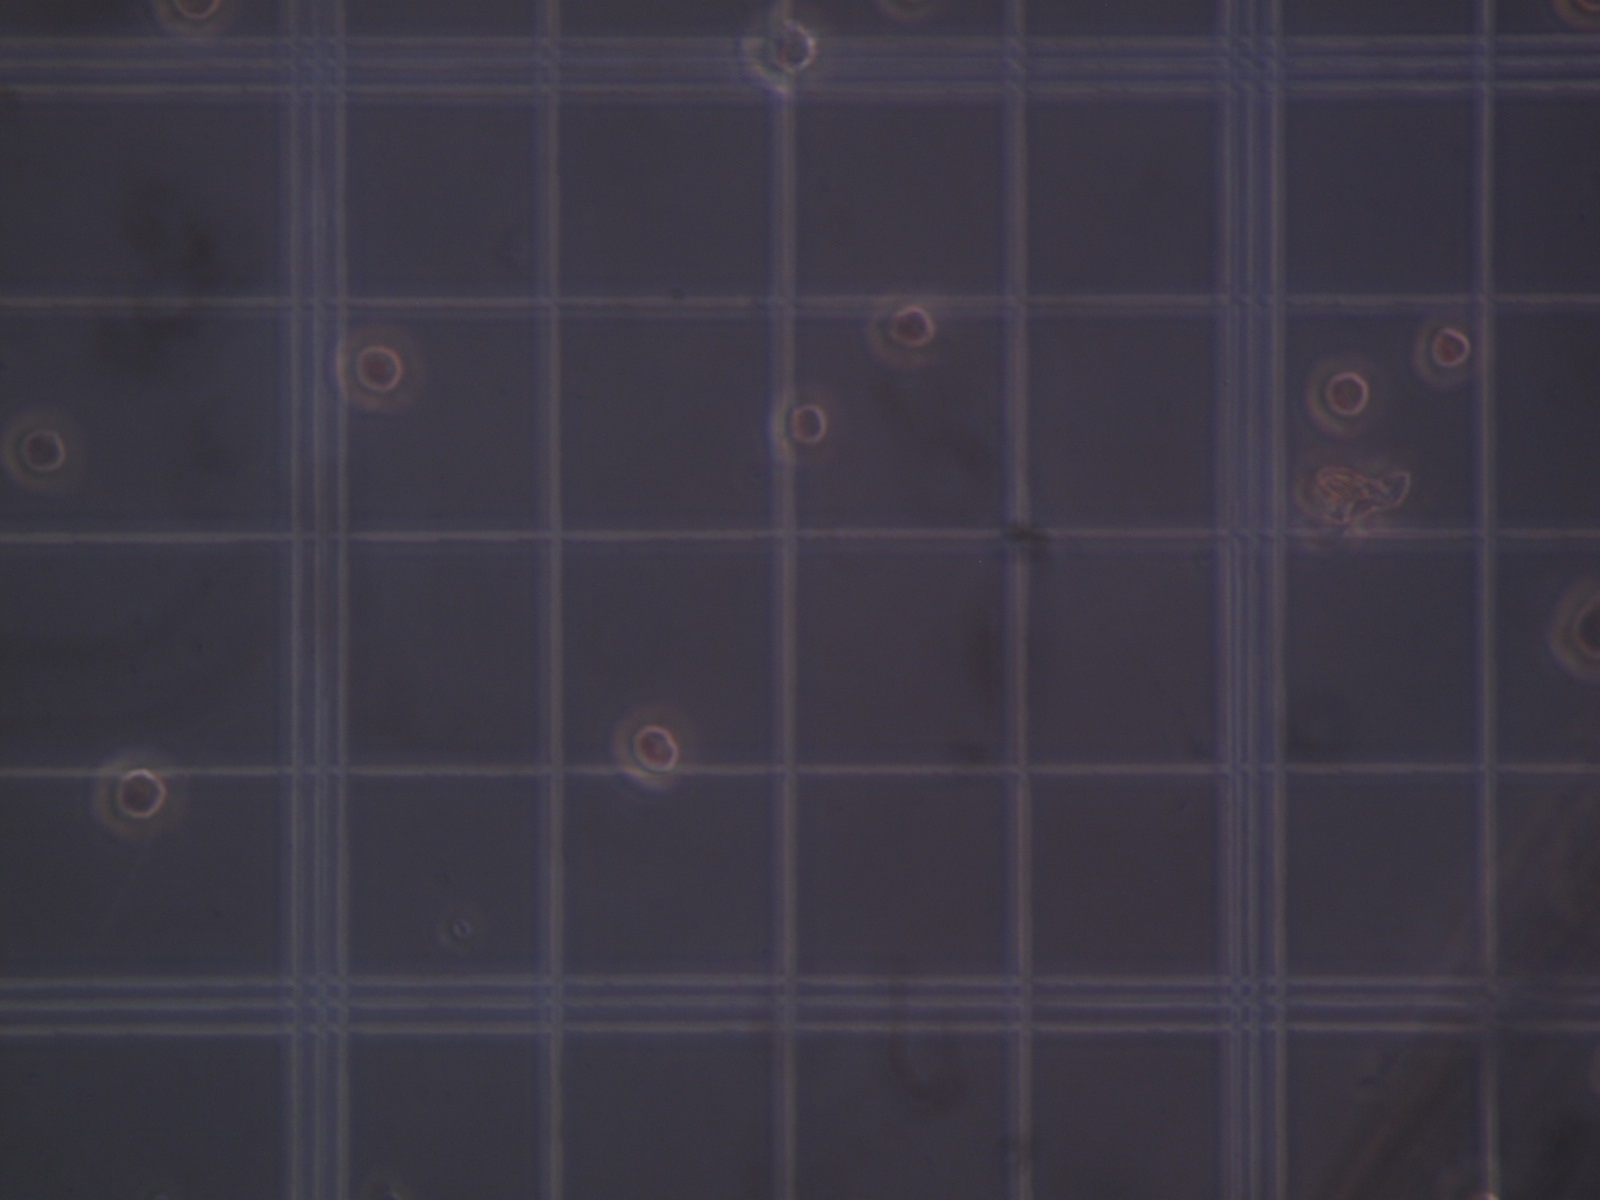hemo: (92, 750, 180, 841), (336, 325, 422, 413), (741, 15, 825, 95), (611, 705, 690, 789), (1, 408, 81, 492), (866, 290, 944, 371), (1305, 354, 1381, 437), (770, 384, 839, 466), (1548, 580, 1600, 681), (1412, 318, 1474, 388), (151, 1, 237, 38), (1553, 1, 1600, 29)
